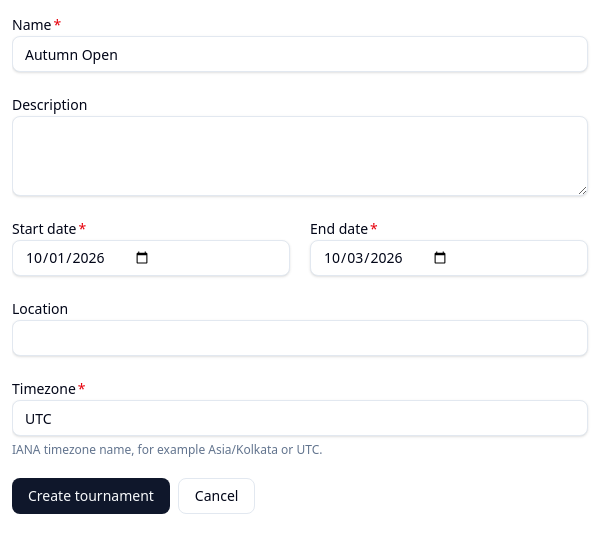
TournamentForm › requires a name
The image size is (609, 557).
Clear the field labelled "Name*": (300, 54) [12,36,588,72]
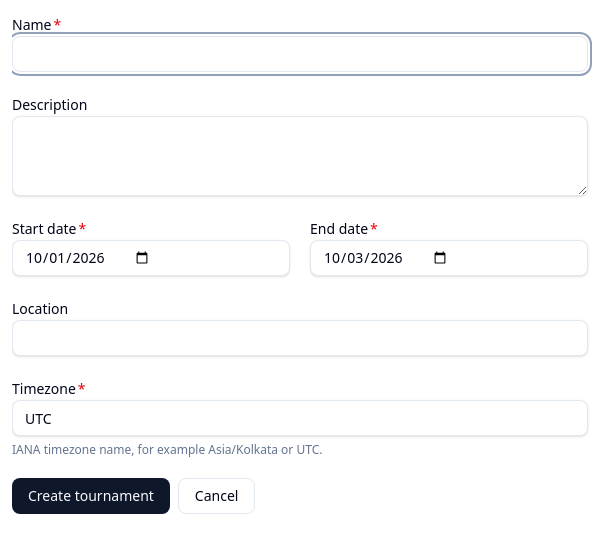
Click the button "Create tournament": (91, 496) [12,478,170,514]
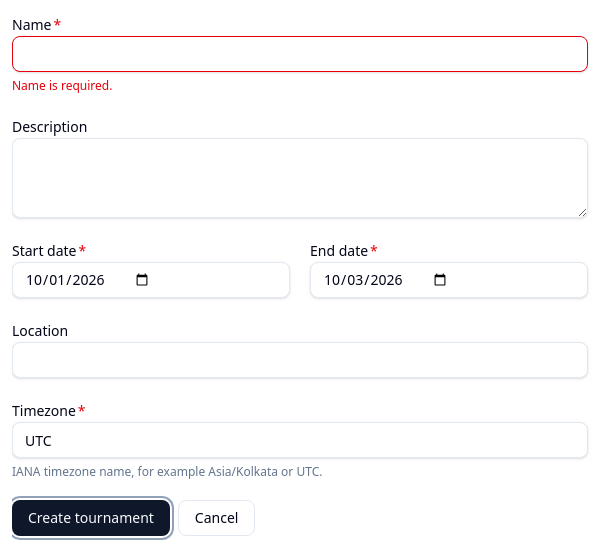
Now the text "Name is required." is shown, box [12,77,112,94]
